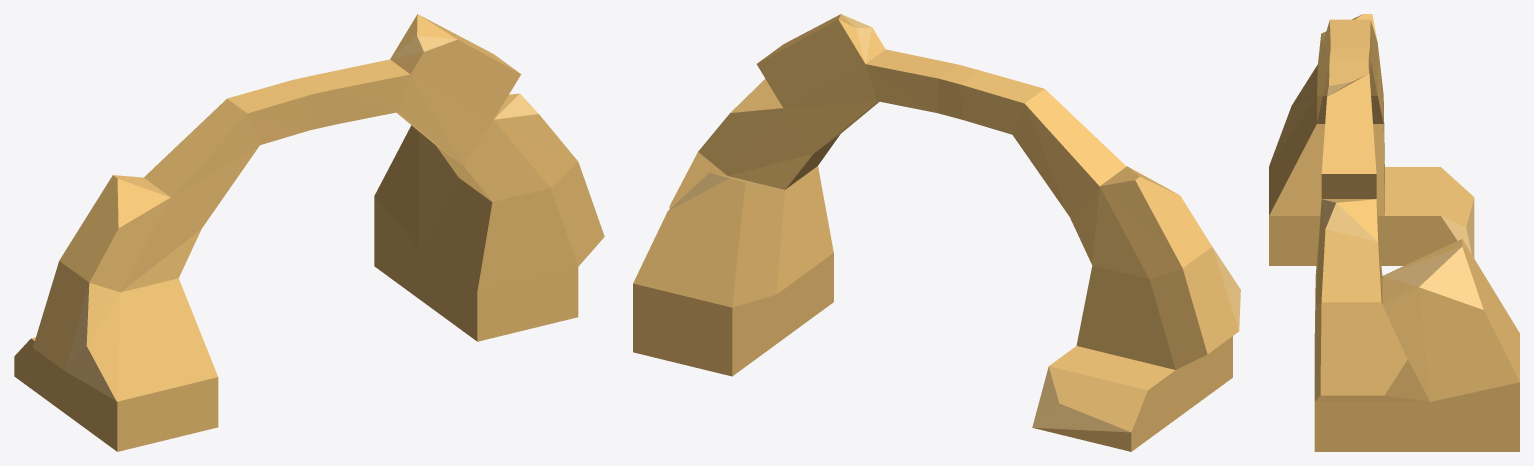
Rendered from ruin_6.fbx.
3 renders of one model, left to right at view 1: azimuth 30°, elevation 25°; view 2: azimuth 150°, elevation 25°; view 3: azimuth 270°, elevation 25°, orthographic.
Parts seen in each view (by area): view 1: ruin_6; view 2: ruin_6; view 3: ruin_6.
Part boxes in pixels (x1,y1,x2,y2): ruin_6: (14,14,604,451); ruin_6: (633,14,1240,451); ruin_6: (1269,14,1519,451).
Size of the model in its own units: 321 by 178 by 129.
